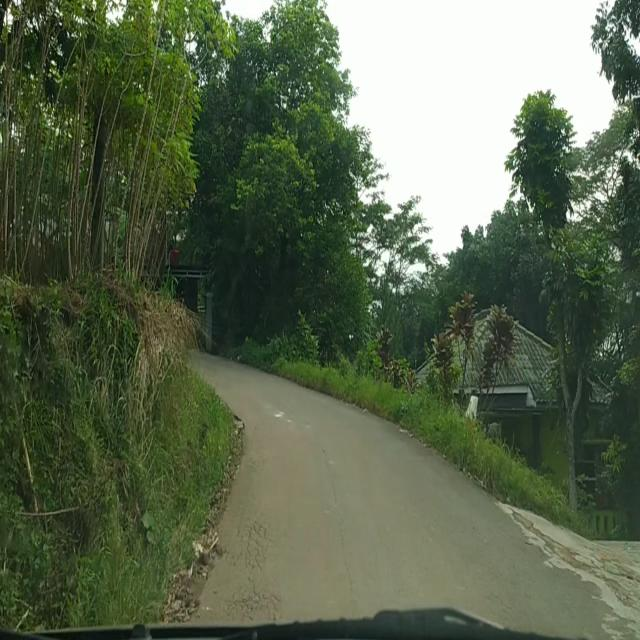Drain Hole: (221, 516, 280, 617)
